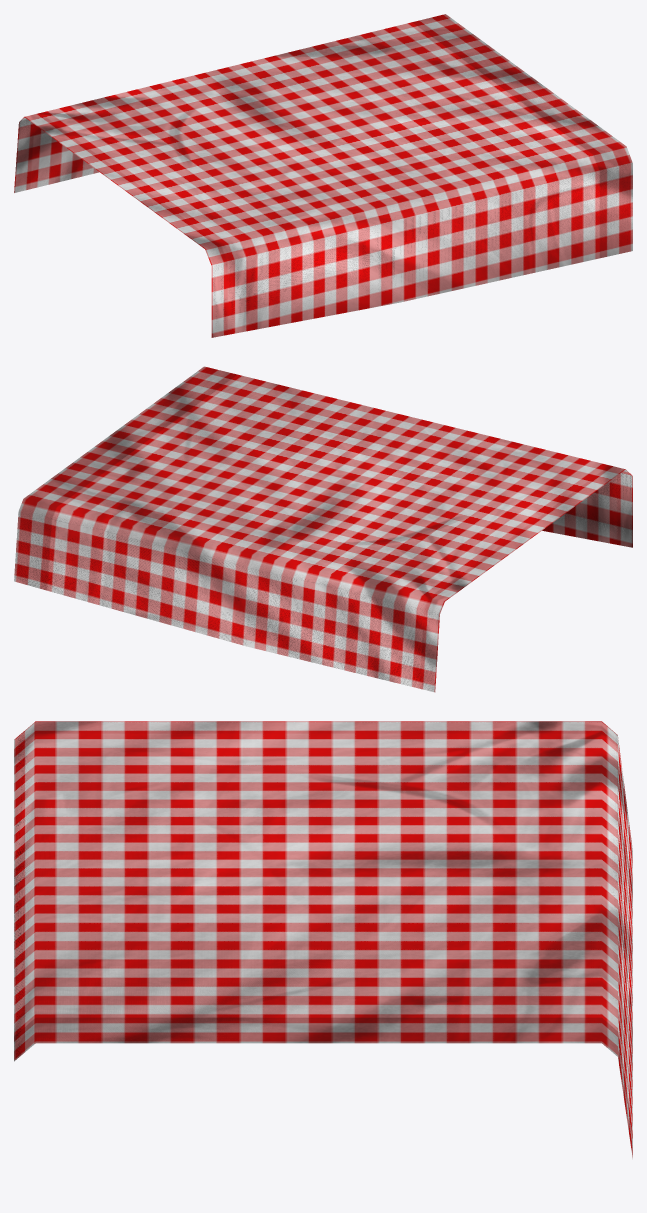
The model's file is Sun_0046_Italian_items_half_tablecloth.fbx.
3 renders of one model, top to bottom at view 1: azimuth 30°, elevation 25°; view 2: azimuth 150°, elevation 25°; view 3: azimuth 270°, elevation 25°, orthographic. The views are drawn at different scales.
Visible parts, largest first — view 1: polySurface2_top, polySurface3_under; view 2: polySurface2_top, polySurface3_under; view 3: polySurface2_top, polySurface3_under.
Boxes of the visible parts, box(x1,y1,x2,y2) form: polySurface2_top: box(14, 14, 632, 337); polySurface3_under: box(14, 14, 632, 336); polySurface2_top: box(14, 366, 632, 692); polySurface3_under: box(14, 367, 632, 691); polySurface2_top: box(14, 721, 632, 1159); polySurface3_under: box(14, 721, 632, 1129).
Bounding box in the file's own units: 141 × 31.64 × 114.
Materials: 1 (1 with a texture image).
